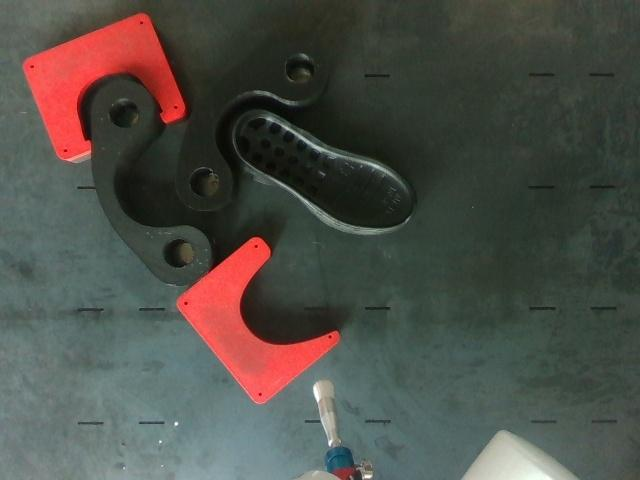shoes: (234, 113, 414, 230)
